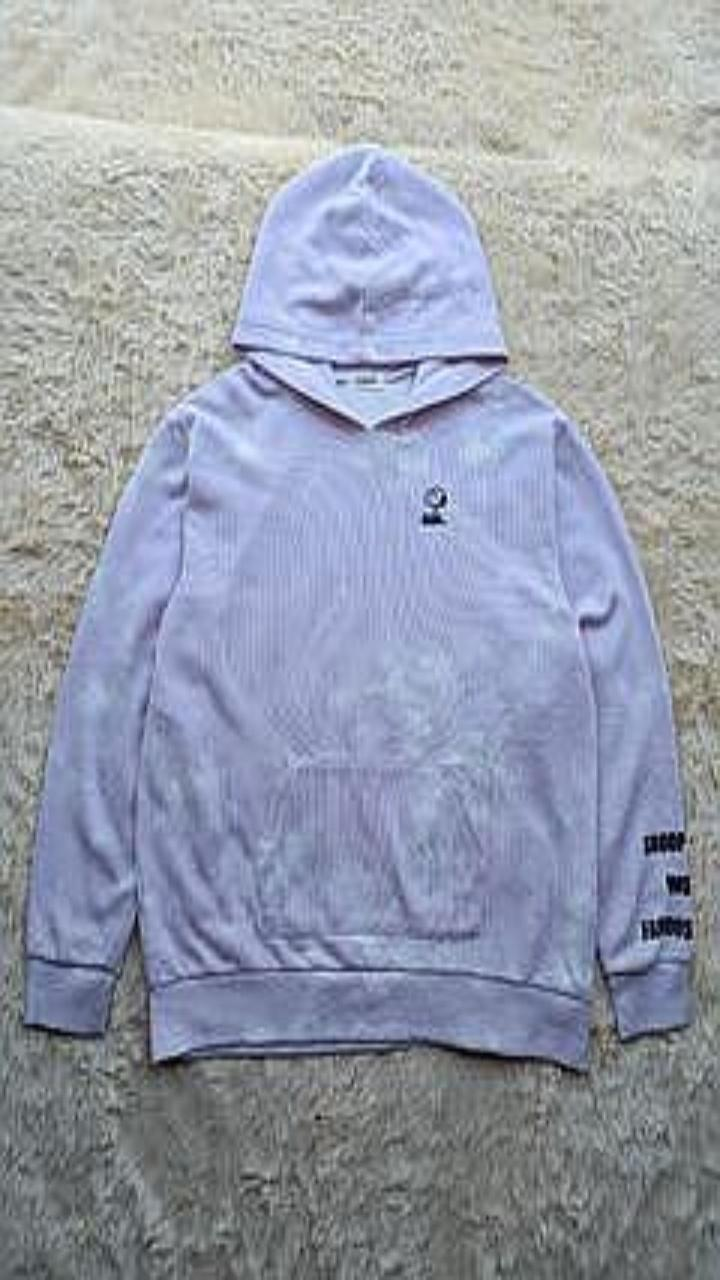Hoodie: (25, 143, 693, 1069)
